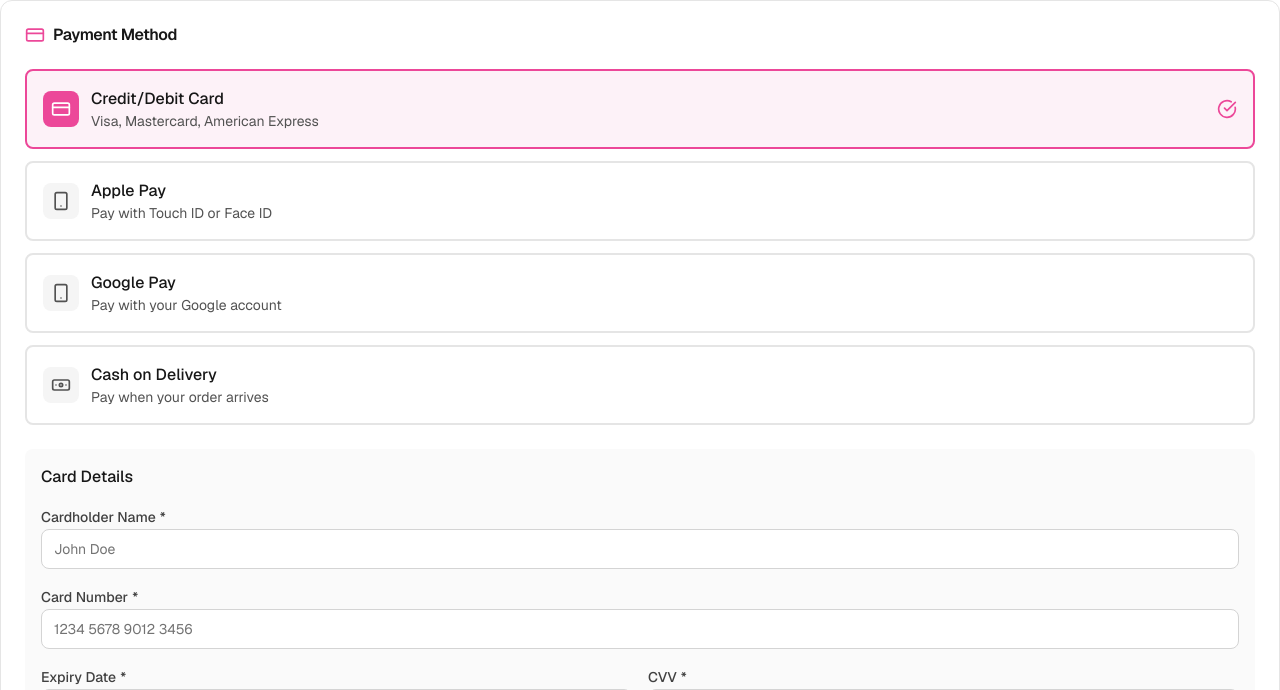
Test: PaymentForm › Card payment form › should format card number with spaces
Step 1. Type "1234567890123456" into the field labelled "Card Number*" → (640, 629), box [41,609,1239,649]
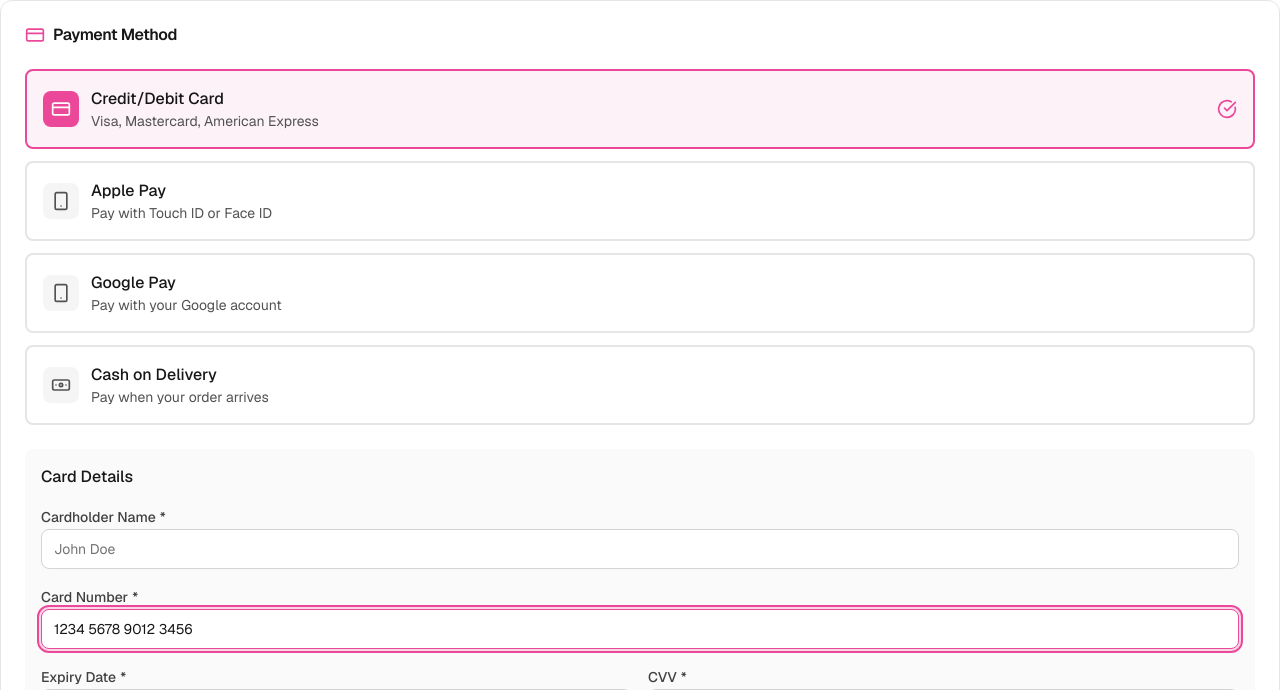
expect the field labelled "Card Number*" holds "1234 5678 9012 3456": met, box [41,609,1239,649]
